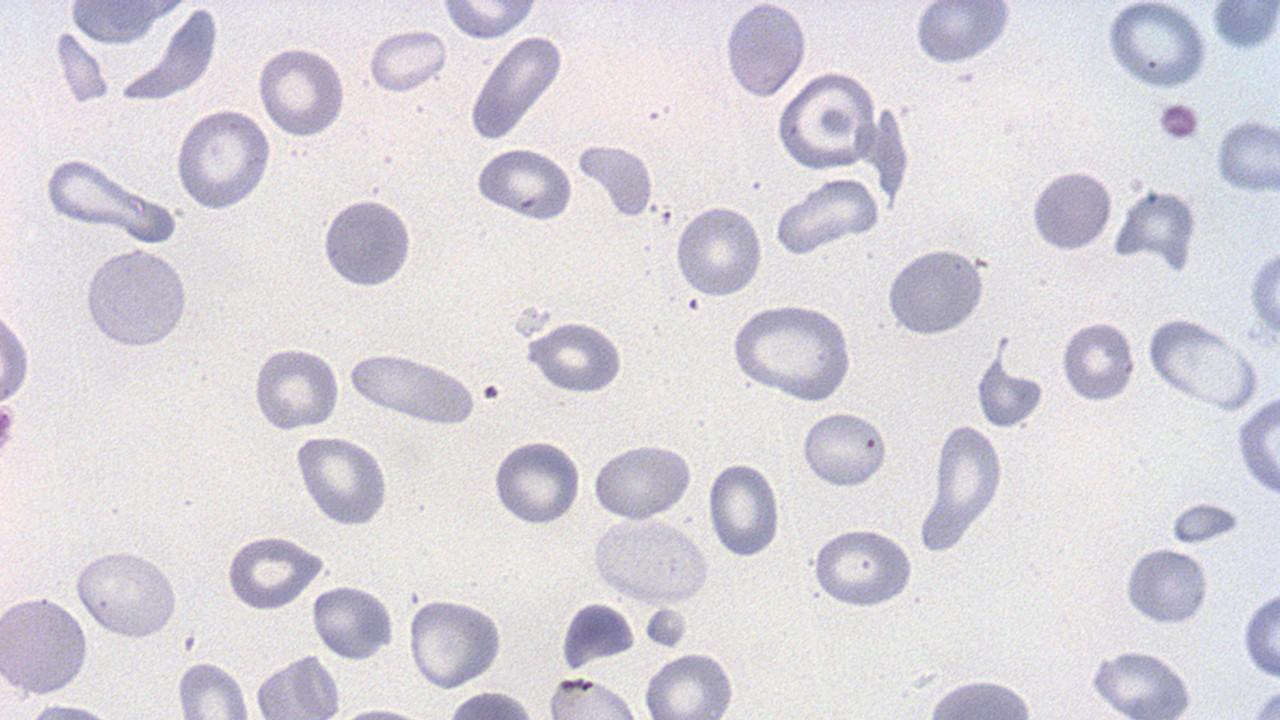Platelets: (473, 149, 577, 224), (1120, 546, 1214, 628), (1117, 187, 1201, 264), (558, 601, 638, 671), (1152, 99, 1204, 143), (0, 396, 19, 464), (951, 69, 978, 86)
RBC: (729, 300, 856, 402), (39, 153, 178, 238), (81, 244, 190, 352), (173, 105, 274, 212), (772, 71, 878, 172), (590, 517, 710, 606), (1143, 317, 1255, 412), (468, 33, 566, 140), (884, 242, 988, 341), (71, 548, 182, 640), (343, 350, 478, 424), (0, 590, 92, 697), (405, 593, 504, 689), (291, 432, 391, 526), (1103, 3, 1209, 91), (319, 195, 417, 290), (672, 202, 766, 300), (810, 525, 916, 611), (255, 43, 348, 139), (723, 0, 809, 102), (772, 175, 884, 253), (931, 420, 1005, 537), (590, 439, 694, 521), (492, 435, 582, 527), (472, 145, 576, 223), (222, 532, 324, 611), (251, 342, 341, 431), (1083, 648, 1199, 717), (524, 318, 626, 395), (706, 457, 782, 558), (1028, 166, 1114, 254), (1123, 544, 1211, 628), (800, 407, 889, 490), (1059, 318, 1137, 405), (911, 0, 1012, 67), (1115, 186, 1197, 267), (639, 651, 738, 718), (310, 582, 395, 660), (251, 653, 345, 717), (366, 26, 449, 94), (1213, 115, 1279, 198), (920, 676, 1047, 718), (1234, 390, 1280, 498), (174, 658, 251, 718), (542, 674, 640, 718), (438, 1, 542, 41), (0, 294, 32, 413), (1241, 588, 1279, 682), (1246, 241, 1280, 345), (445, 686, 538, 718)
WBC: (14, 33, 700, 720), (662, 0, 1280, 720), (0, 0, 446, 444), (46, 0, 224, 105), (81, 244, 193, 352), (885, 241, 993, 340), (592, 516, 710, 606), (1103, 3, 1221, 91), (0, 592, 91, 700), (319, 193, 414, 293), (910, 0, 1018, 67), (251, 654, 346, 720), (1206, 2, 1280, 52)
